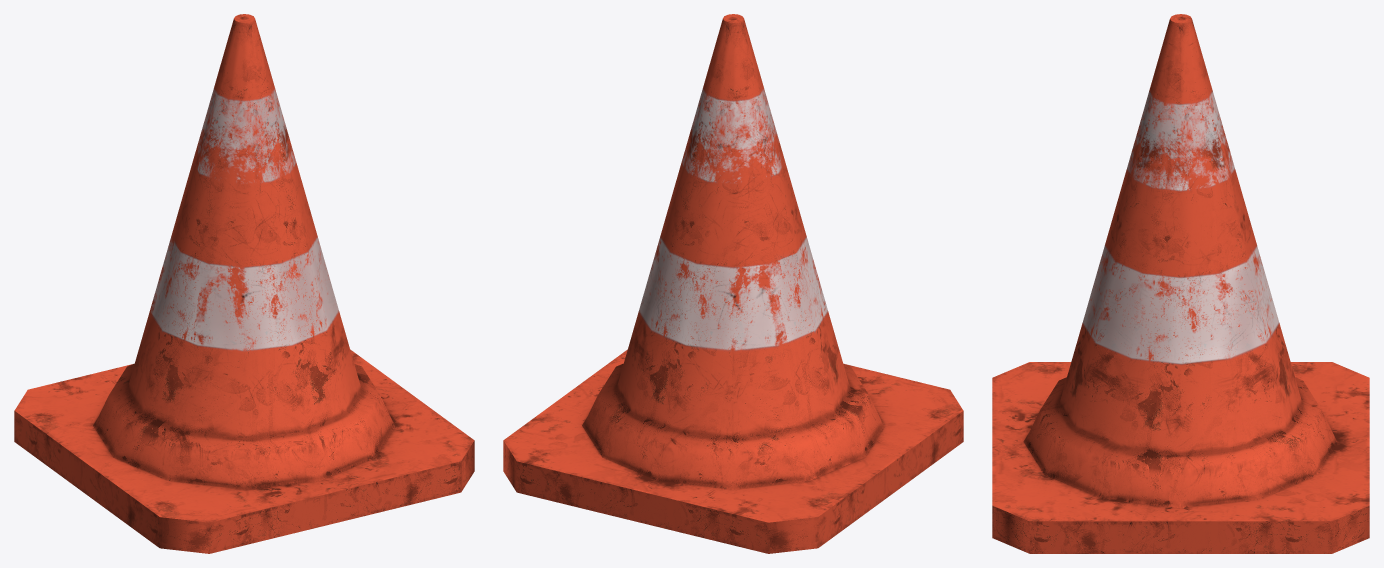
The picture shows the model from 3 angles, left to right: view 1: azimuth 30°, elevation 25°; view 2: azimuth 150°, elevation 25°; view 3: azimuth 270°, elevation 25°; orthographic projection. The views are drawn at different scales.
Visible parts, largest first — view 1: Conus_LP2; view 2: Conus_LP2; view 3: Conus_LP2.
Boxes of the visible parts, x1=… form: Conus_LP2: x1=14, y1=14, x2=474, y2=553; Conus_LP2: x1=503, y1=14, x2=963, y2=553; Conus_LP2: x1=992, y1=14, x2=1369, y2=553.
Size of the model in its own units: 0.0302 by 0.0401 by 0.0302.
1 material, 1 textured.
